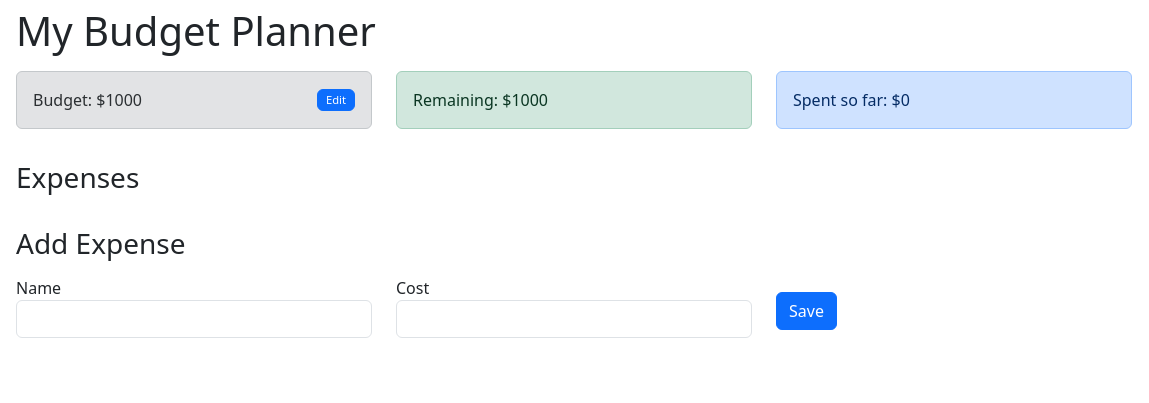
it: Tests Expenses › Create an Expense
In the field labelled "Name": [194, 319] box [16,300,372,338], type "New Expense"
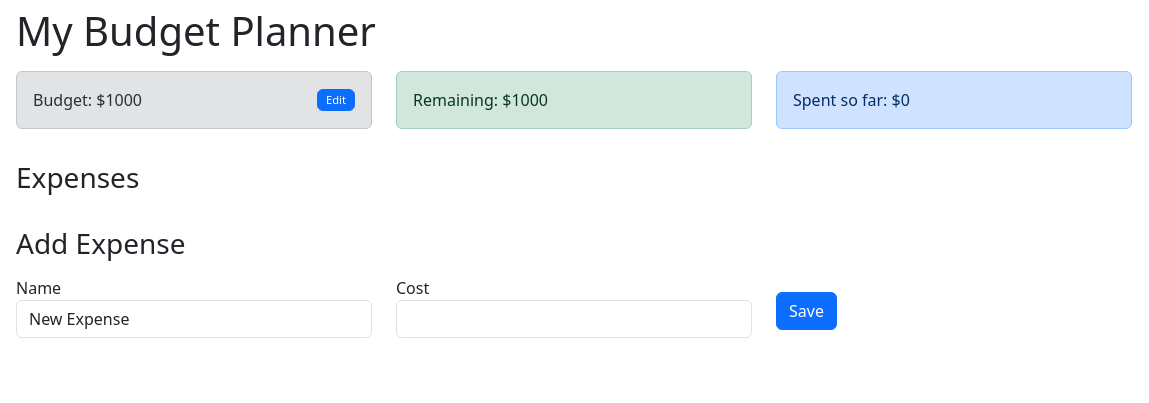
In the field labelled "Cost": [574, 319] box [396,300,752,338], type "1000"
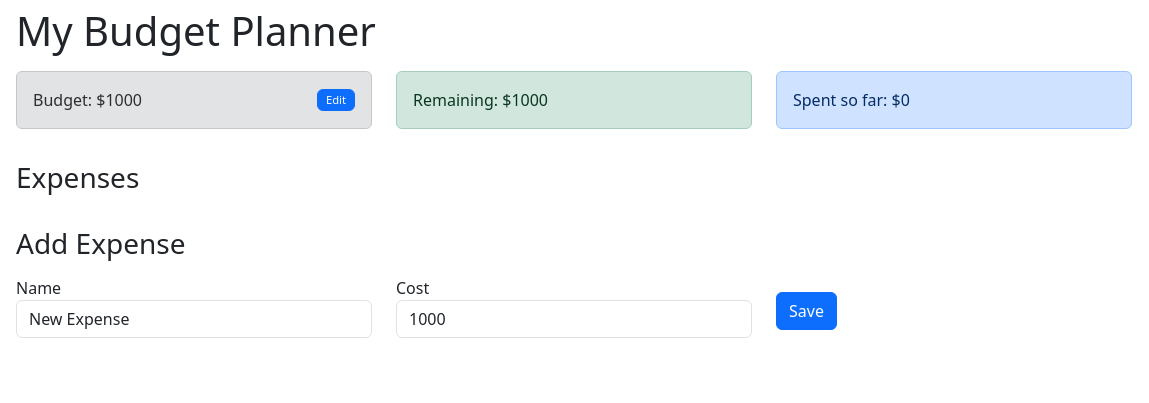
Click the button "Save": [806, 311] box [776,292,837,330]
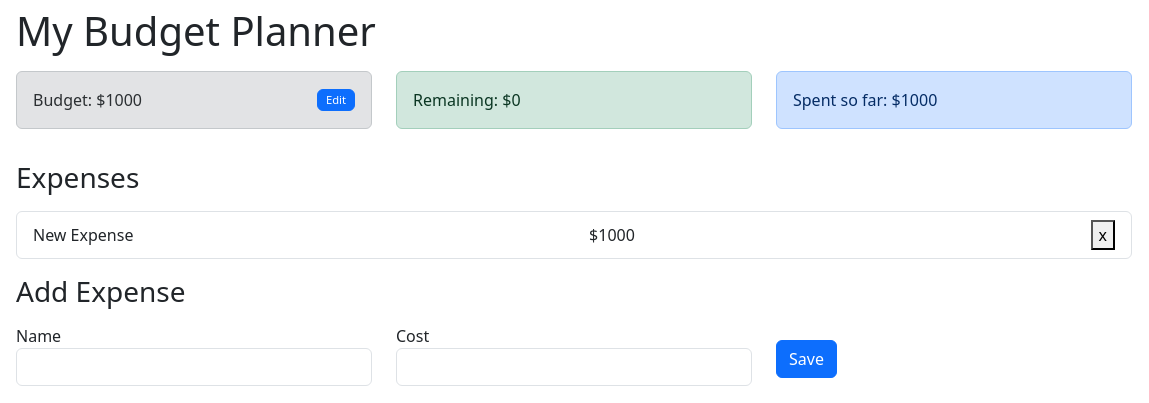
Now the text "New Expense" is shown, box [33,223,133,247]
Now the text "$1000" is shown, box [589,223,635,247]
